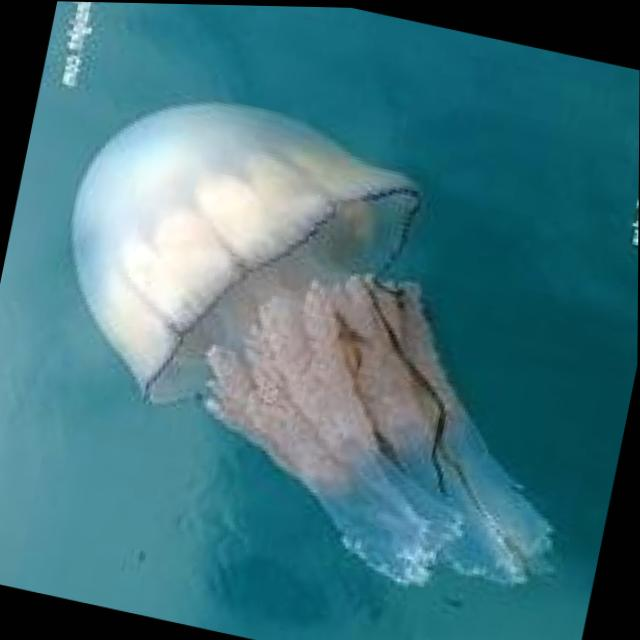Jellyfish: (7, 67, 635, 616)
